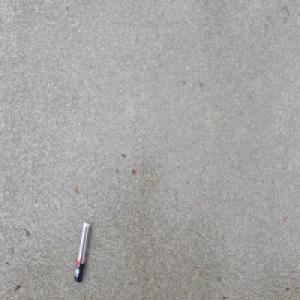Battery: (73, 217, 91, 283)
